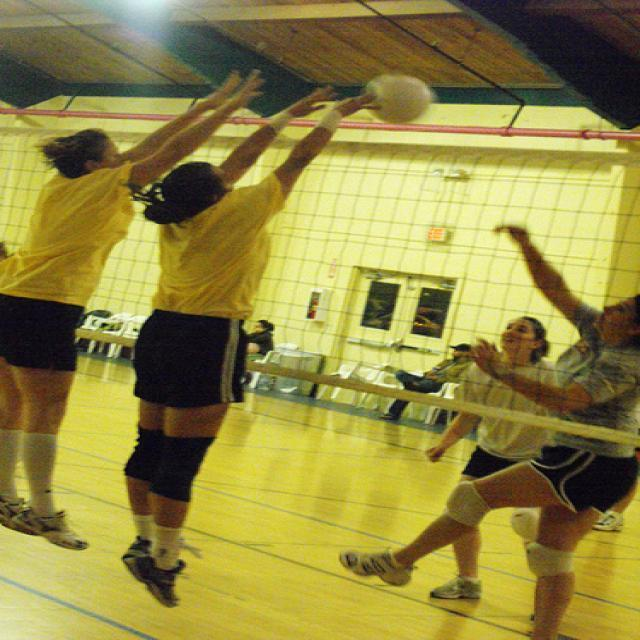volleyball: (359, 75, 431, 123)
